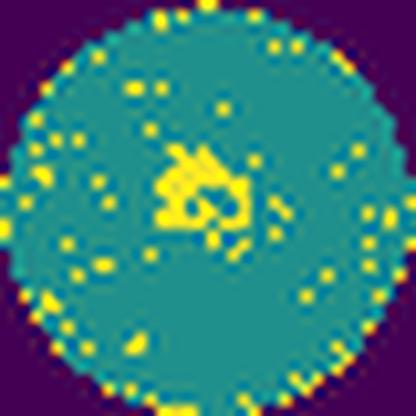Center: (158, 142, 252, 235)
